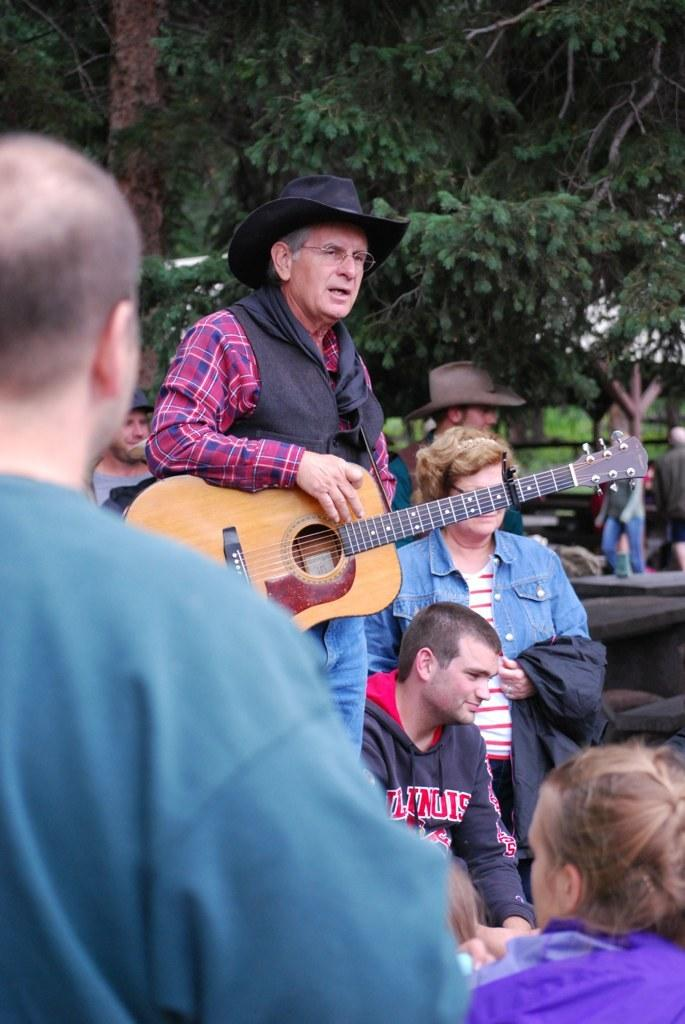Hat: (230, 168, 410, 290), (400, 356, 524, 422)
